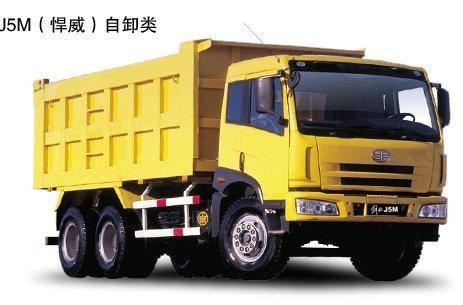truck: (26, 49, 439, 284)
